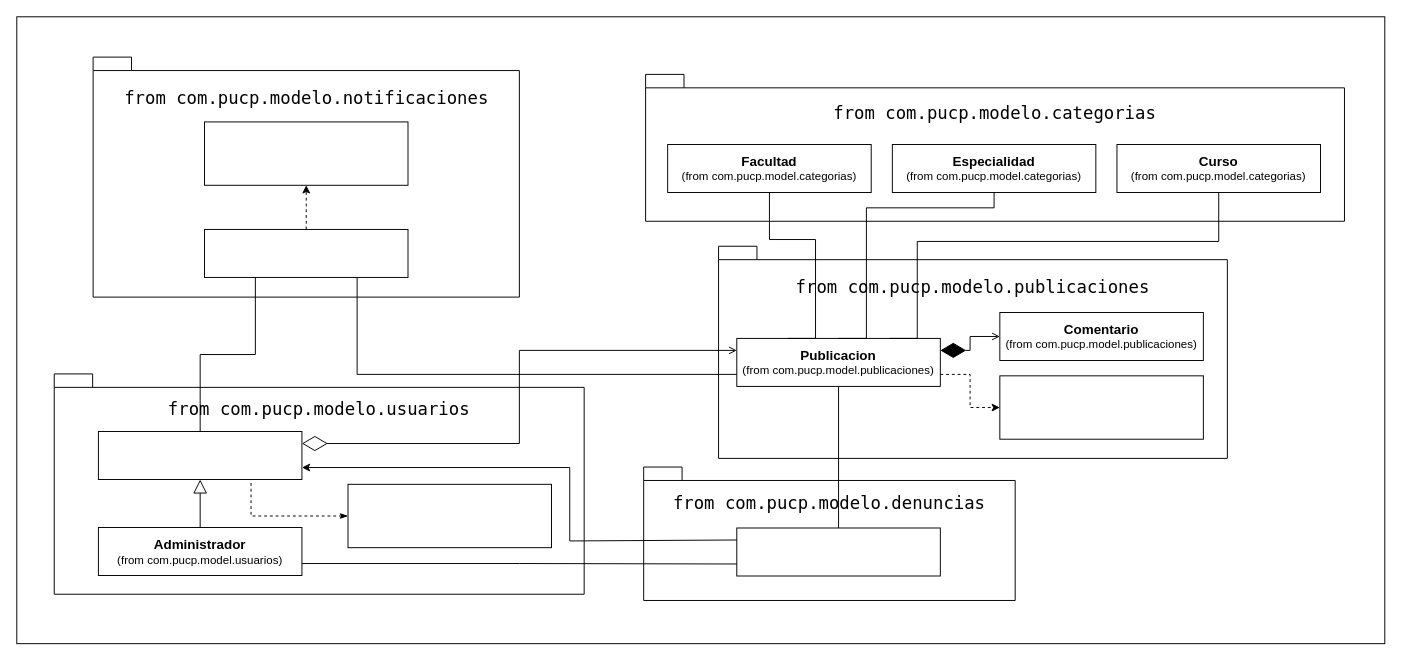
This 1402x660 diagram has some shape labels left out. Here are the shapes that lost their labels. From the top down, the centre of each, then its label:
the point at 306,153: <<enumeration>> TipoNotificacion (from com.pucp.model.notificaciones)
the point at 306,252: Notificacion (from com.pucp.model.notificaciones)
the point at 1101,407: <<enumeration>> EstadoPublicacion (from com.pucp.model.publicaciones)
the point at 199,455: Usuario (from com.pucp.model.usuarios)
the point at 449,515: <<enumeration>> EstadoUsuario (from com.pucp.model.usuarios)
the point at 838,551: Denuncia (from com.pucp.model.denuncias)
